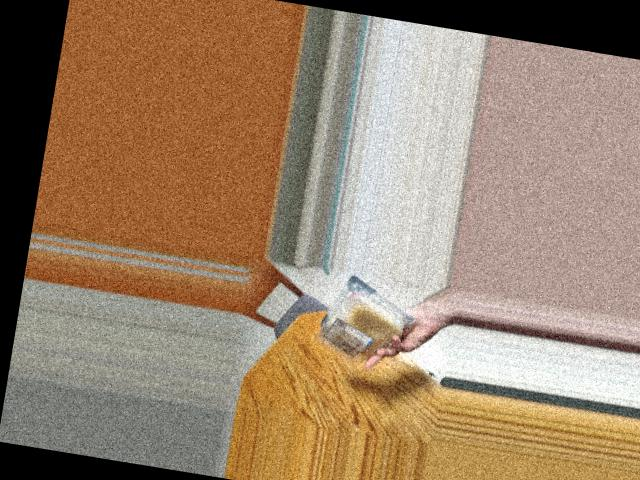cheese: (315, 277, 419, 357)
